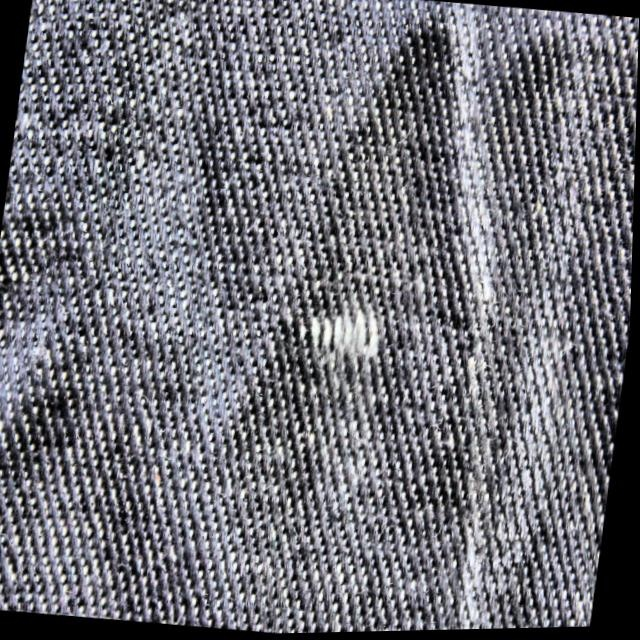Hole: (304, 306, 383, 361)
